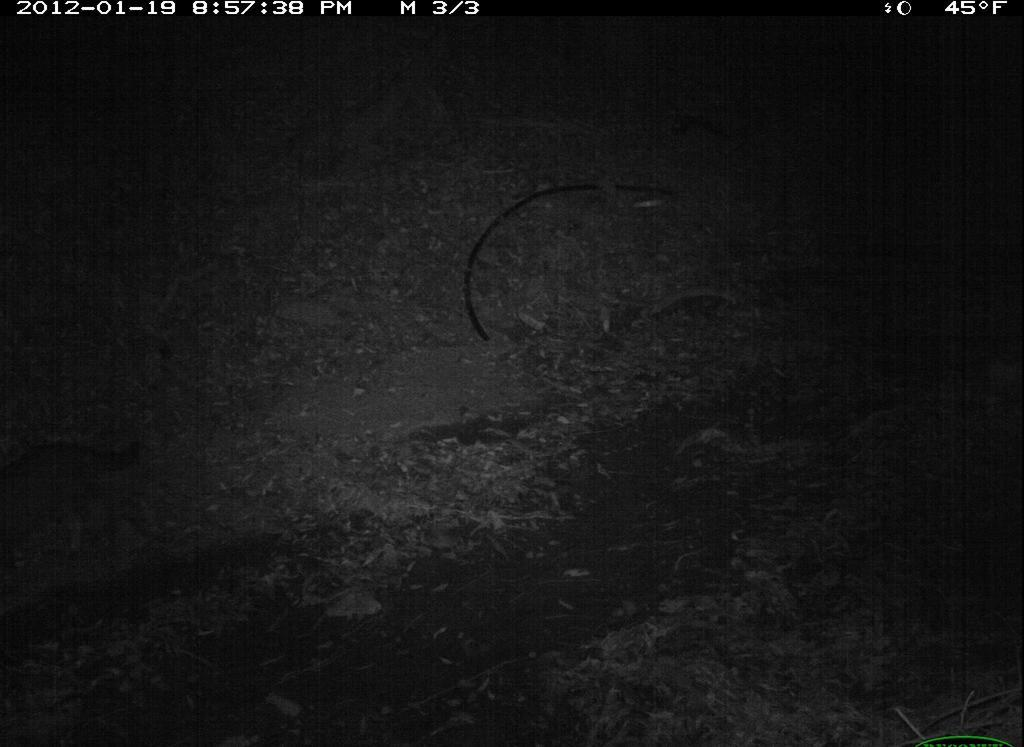cat: (3, 429, 150, 569)
